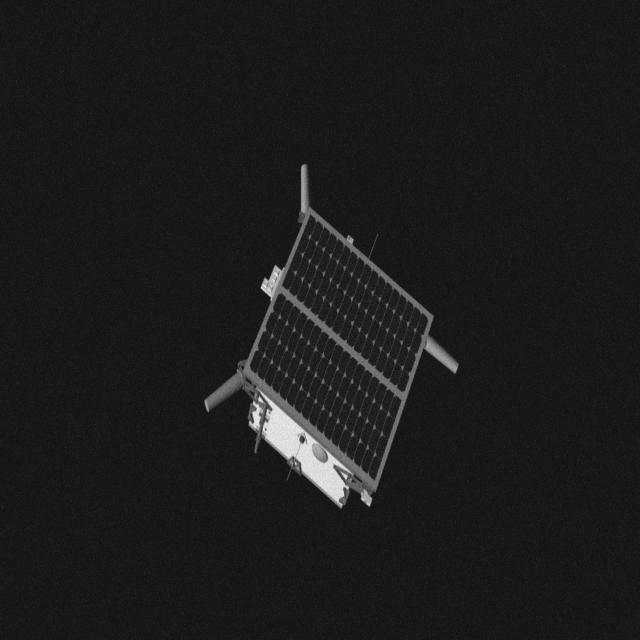medium_debris: (200, 162, 458, 514)
